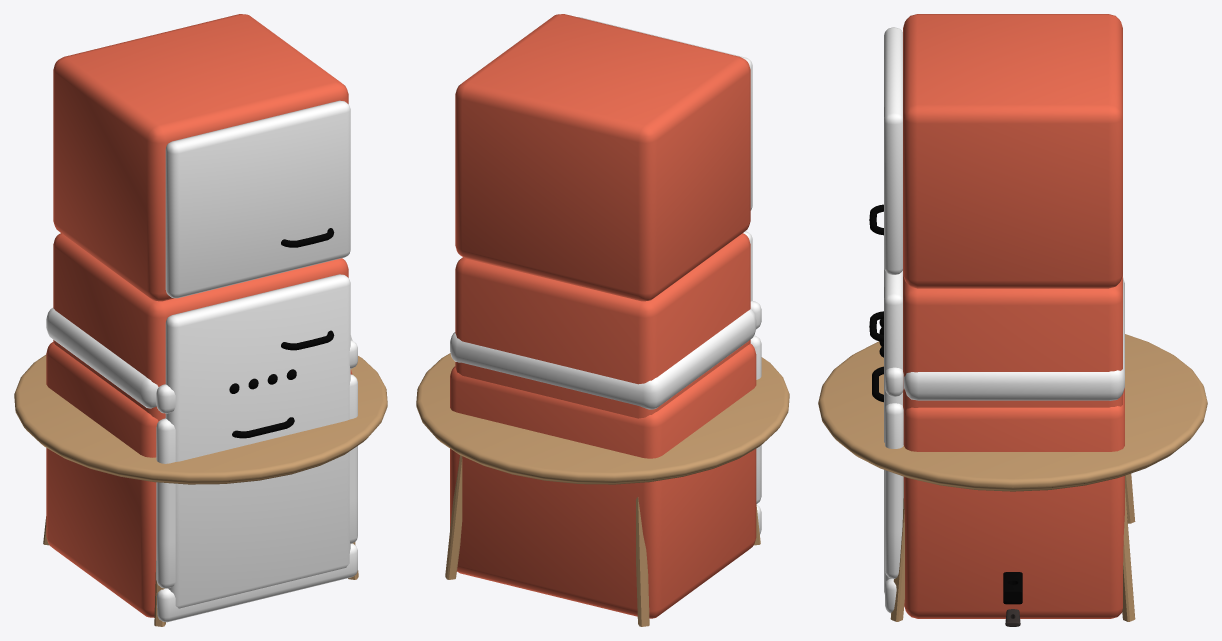
File: kitchen_objects.fbx
3 views of the same model, side by side, from view 1: azimuth 30°, elevation 25°; view 2: azimuth 150°, elevation 25°; view 3: azimuth 270°, elevation 25° (orthographic). The views are drawn at different scales.
Visible parts, largest first — view 1: bottom_door.001, top.001, top_door.001, body, table.001, bottom.003, door, top.002; view 2: top.001, body, bottom.003, table.001, top.002, top_door.001, door; view 3: top.001, body, table.001, bottom.003, top.002, top_door.001, door, bottom_door.001, LP_sauce_pot2.001.
Boxes of the visible parts, x1,y1,x2,y2 form: bottom_door.001: (165, 274, 350, 608); top.001: (53, 14, 348, 301); top_door.001: (165, 100, 350, 298); body: (46, 342, 357, 622); table.001: (14, 354, 387, 626); bottom.003: (53, 233, 348, 421); door: (156, 374, 357, 588); top.002: (46, 308, 357, 413); top.001: (455, 14, 750, 301); body: (450, 343, 761, 618); bottom.003: (455, 233, 750, 418); table.001: (416, 353, 789, 626); top.002: (450, 300, 761, 409); top_door.001: (577, 17, 752, 210); door: (750, 335, 761, 503); top.001: (903, 14, 1122, 288); body: (885, 388, 1124, 618); table.001: (818, 334, 1207, 621); bottom.003: (903, 275, 1122, 481); top.002: (879, 277, 1124, 400); top_door.001: (869, 27, 902, 274); door: (872, 366, 903, 578); bottom_door.001: (869, 268, 902, 594); LP_sauce_pot2.001: (1003, 572, 1022, 601).
Size of the model in its own units: 95.94 by 140 by 95.94.
